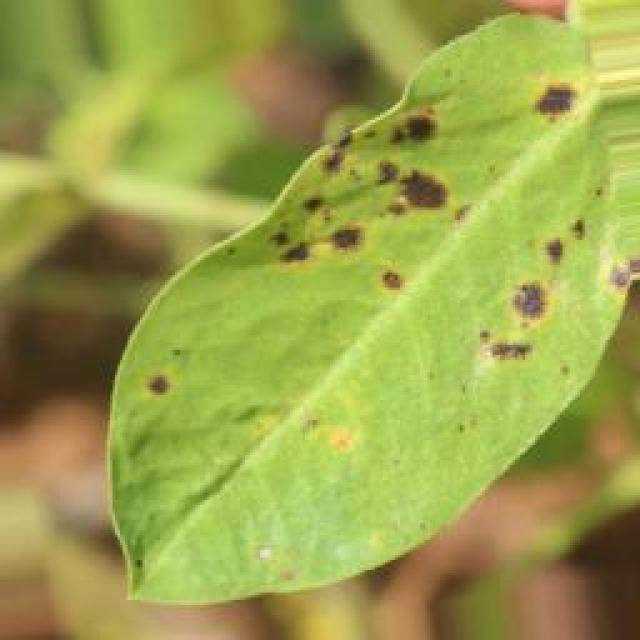Yellowish: (120, 0, 640, 493)
